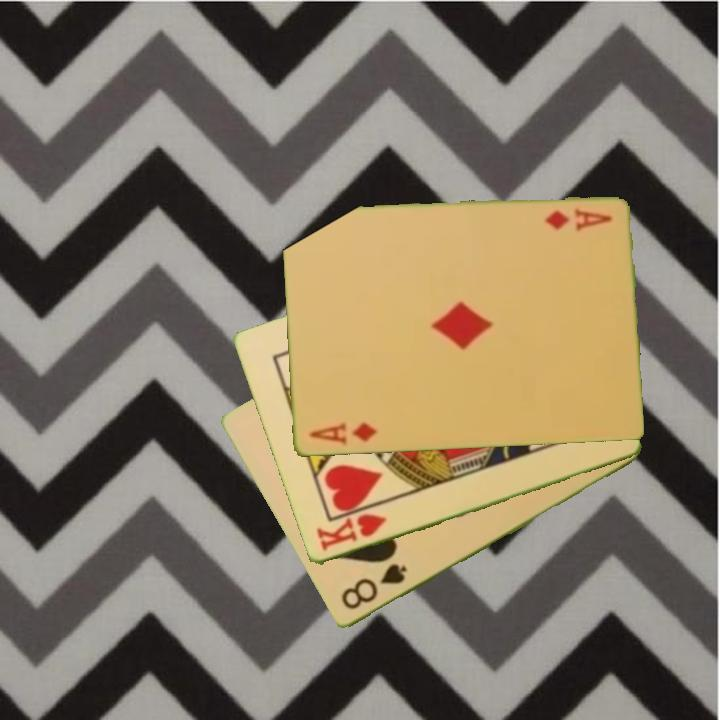8s: (337, 560, 410, 613)
Ad: (306, 419, 380, 448), (541, 205, 614, 233)
Kh: (312, 510, 389, 555)
